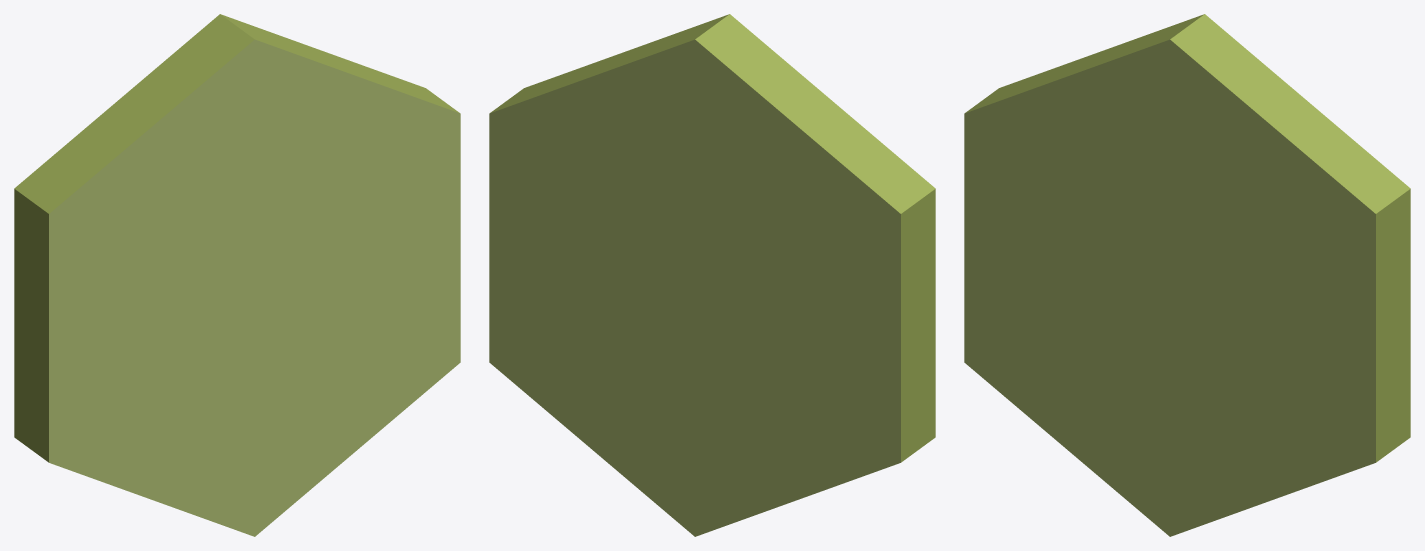
File: coin.fbx
The picture shows the model from 3 angles, left to right: view 1: azimuth 30°, elevation 25°; view 2: azimuth 150°, elevation 25°; view 3: azimuth 330°, elevation 25°; orthographic projection.
Visible parts, largest first — view 1: Mesh_Coin; view 2: Mesh_Coin; view 3: Mesh_Coin.
Boxes of the visible parts, bbox=[...] form: Mesh_Coin: bbox=[14, 14, 460, 536]; Mesh_Coin: bbox=[489, 14, 935, 536]; Mesh_Coin: bbox=[964, 14, 1410, 536].
Size of what is drawn, in the model's own units: 0.5443 by 0.0798 by 0.6285.
